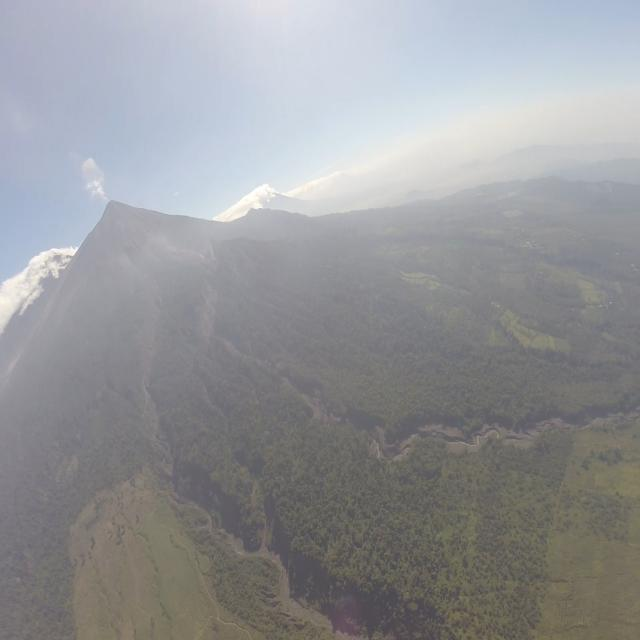Plume: (80, 156, 106, 202)
Summit: (98, 198, 132, 222)
